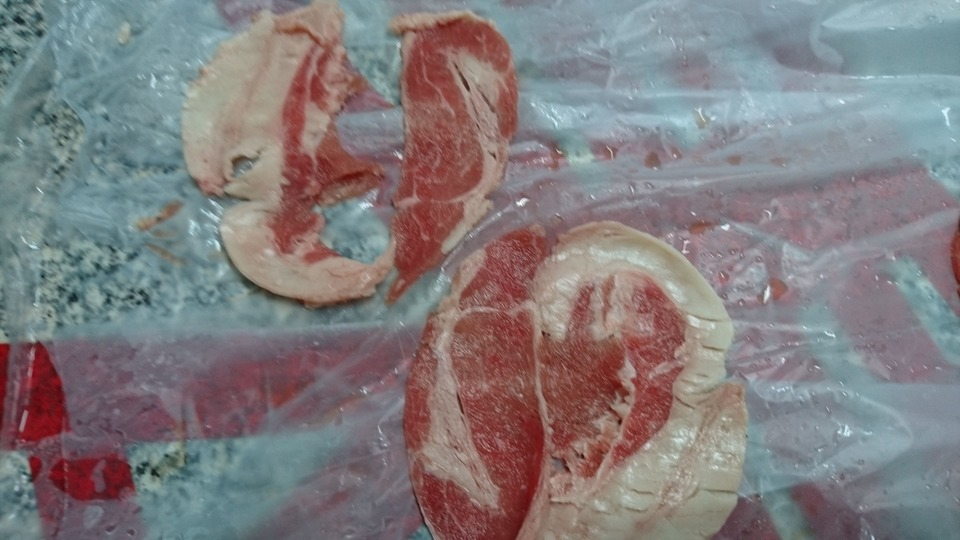restructured meat: (394, 217, 747, 540), (180, 2, 514, 306)
